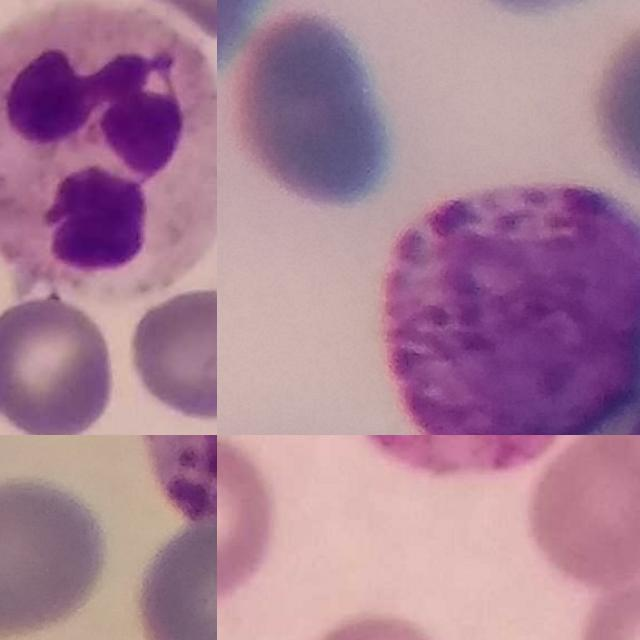Basophil: (381, 176, 640, 435)
Neutrophil: (0, 0, 217, 300)
